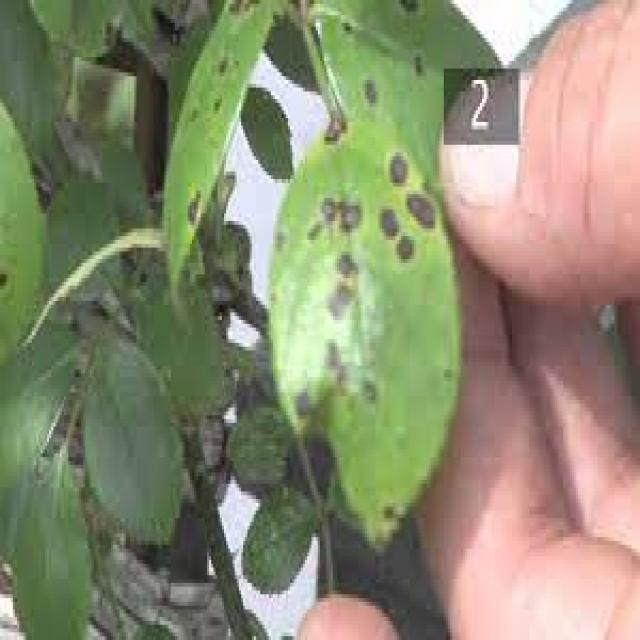black-spot: (308, 175, 491, 482), (308, 176, 476, 494)
